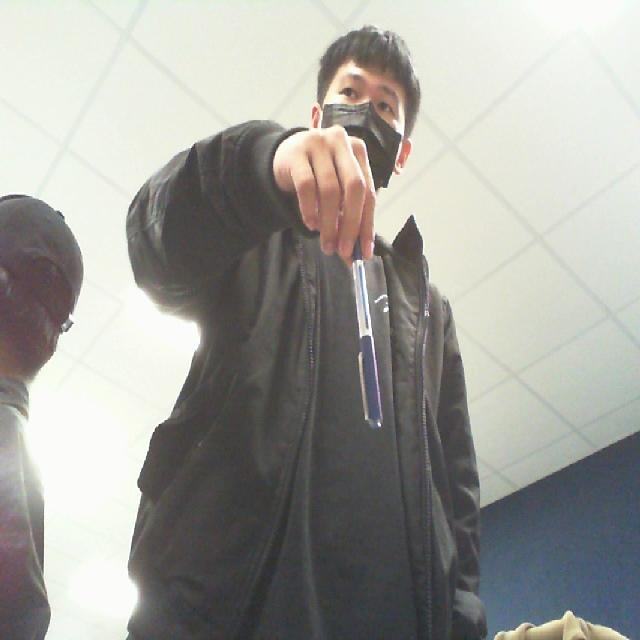Pen: (335, 218, 396, 451)
